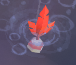active: (17, 3, 62, 56)
